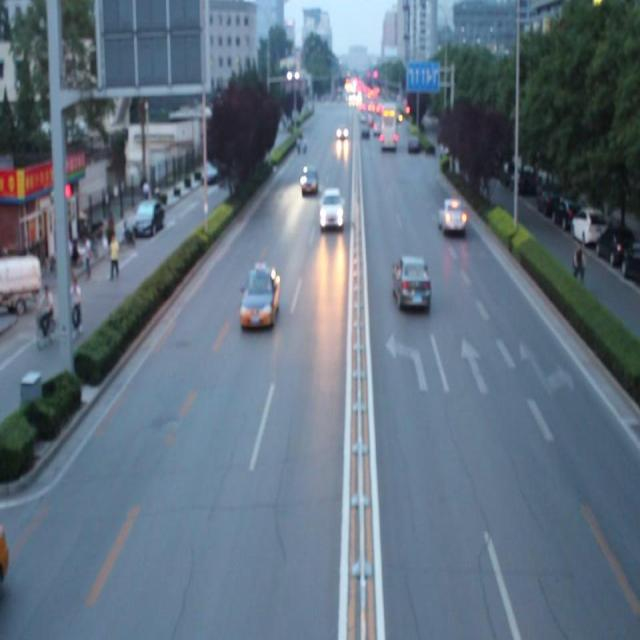car: (239, 263, 281, 328), (392, 251, 431, 311), (436, 194, 466, 234), (319, 186, 343, 230)
